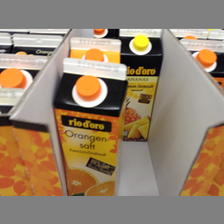juice: (54, 58, 129, 195), (119, 28, 164, 142)
